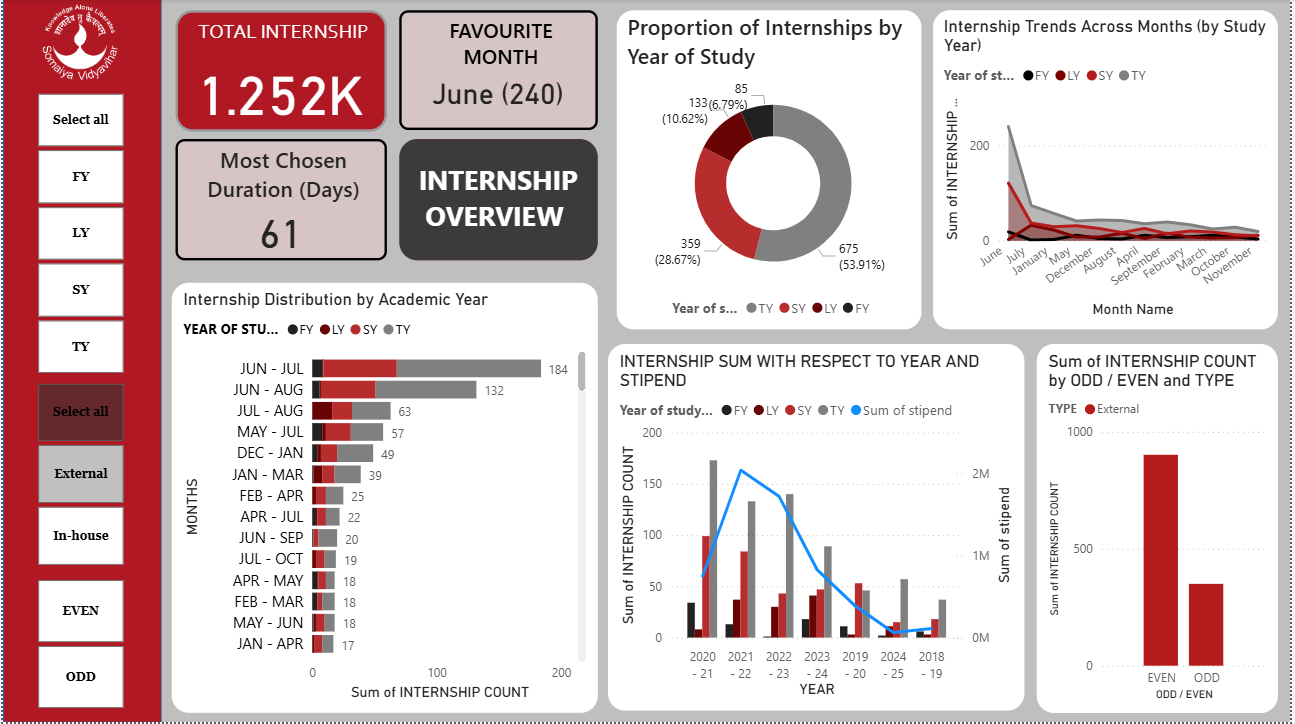

The dashboard page shown, as its layout file describes it:
{"tool":"powerbi","page":{"name":"Page 1","canvas":[1280,720],"ordinal":0},"visuals":[{"type":"cardVisual","title":"Most Chosen Duration (Days)","fields":{"Data":["Sheet1.AverageDuration"]},"box":[171.7,139.3,210.2,120.7],"z":0},{"type":"cardVisual","title":"FAVOURITE MONTH","fields":{"Data":["Sheet1.MostPopularStartMonthLabel"]},"box":[394.3,11.2,197.8,119.4],"z":1000},{"type":"cardVisual","title":"TOTAL INTERNSHIP","fields":{"Data":["CountNonNull(Sheet1.Paid)"]},"box":[171.7,11.2,210.2,120.7],"z":2000},{"type":"columnChart","fields":{"Category":["Sheet1.ODD / EVEN"],"Series":["Sheet1.TYPE"],"Y":["Sum(Sheet1.INTERNSHIP COUNT )"]},"box":[1028.8,343.3,240.1,367],"z":3000},{"type":"lineClusteredColumnComboChart","title":"INTERNSHIP SUM WITH RESPECT TO YEAR AND STIPEND","fields":{"Category":["Sheet1.YEAR"],"Y":["Sum(Sheet1.INTERNSHIP COUNT )"],"Y2":["Sum(Sheet1.stipend)"],"Series":["Sheet1.Year of study (FY/SY/TY/LY)"]},"box":[602.1,343.3,414.2,364.5],"z":4000},{"type":"shape","box":[0,0,158,720.3],"z":5000},{"type":"image","box":[34.8,0,84.6,85.8],"z":6000},{"type":"slicer","fields":{"Values":["Sheet1.Year of study (FY/SY/TY/LY)"]},"box":[8.7,92.1,135.6,282.4],"z":7000},{"type":"slicer","fields":{"Values":["Sheet1.TYPE"]},"box":[8.7,380.7,135.6,184.1],"z":8000},{"type":"slicer","fields":{"Values":["Sheet1.ODD / EVEN"]},"box":[8.7,576,135.6,131.9],"z":9000},{"type":"textbox","box":[394.3,139.3,197.8,120.7],"z":10000},{"type":"areaChart","title":"Internship Trends Across Months (by Study Year)","fields":{"Category":["Sheet1.Month Name"],"Y":["Sum(Sheet1.INTERNSHIP COUNT)"],"Series":["Sheet1.Year of study (FY/SY/TY/LY)"]},"box":[925.5,11.2,343.3,317.2],"z":12000},{"type":"donutChart","title":"Proportion of Internships by Year of Study","fields":{"Category":["Sheet1.Year of study (FY/SY/TY/LY)"],"Y":["Sum(Sheet1.INTERNSHIP COUNT )"]},"box":[610.8,11.2,303.5,317.2],"z":13000},{"type":"barChart","title":"Internship Distribution by Academic Year","fields":{"Y":["Sum(Sheet1.INTERNSHIP COUNT )"],"Category":["Sheet1.MONTHS"],"Series":["Sheet1.Year of study (FY/SY/TY/LY)"]},"box":[167.9,282.4,424.2,427.9],"z":15000}]}

Visuals, with their boxes in screenshot pixels (x1, y1, x2, y2), scaled from the page's 1280x720 canvas onto the 1295x724 screenshot:
"Most Chosen Duration (Days)" cardVisual: [174, 140, 386, 261]
"FAVOURITE MONTH" cardVisual: [399, 11, 599, 131]
"TOTAL INTERNSHIP" cardVisual: [174, 11, 386, 133]
columnChart - Sheet1.ODD / EVEN x Sheet1.TYPE: [1041, 345, 1284, 714]
"INTERNSHIP SUM WITH RESPECT TO YEAR AND STIPEND" lineClusteredColumnComboChart: [609, 345, 1028, 712]
shape: [0, 0, 160, 723]
image: [35, 0, 121, 86]
slicer - Sheet1.Year of study (FY/SY/TY/LY): [9, 93, 146, 377]
slicer - Sheet1.TYPE: [9, 383, 146, 568]
slicer - Sheet1.ODD / EVEN: [9, 579, 146, 712]
textbox: [399, 140, 599, 261]
"Internship Trends Across Months (by Study Year)" areaChart: [936, 11, 1284, 330]
"Proportion of Internships by Year of Study" donutChart: [618, 11, 925, 330]
"Internship Distribution by Academic Year" barChart: [170, 284, 599, 714]
